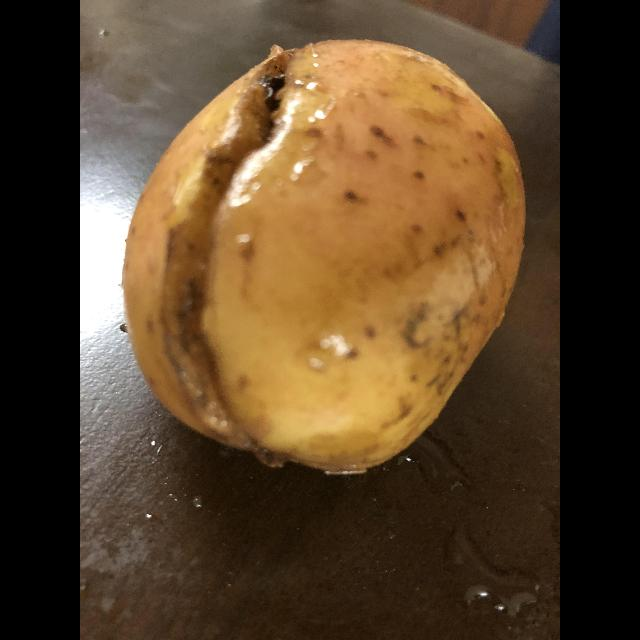Damaged potato: (123, 46, 529, 474)
